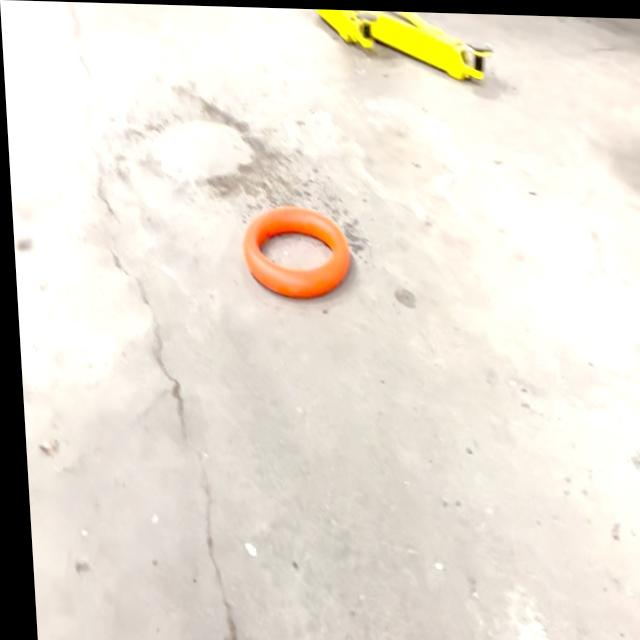note: (243, 205, 346, 295)
